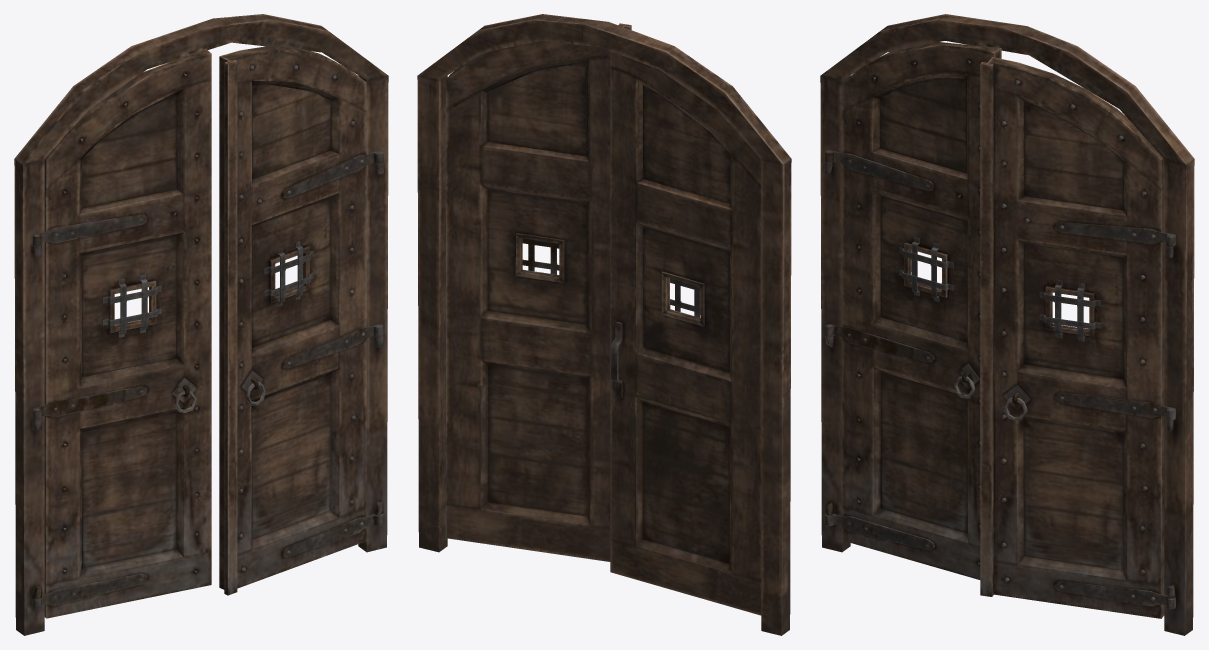
Rendered from large_castle_door.glb.
3 renders of one model, left to right at view 1: azimuth 30°, elevation 25°; view 2: azimuth 150°, elevation 25°; view 3: azimuth 330°, elevation 25°, orthographic.
Visible parts, largest first — view 1: large_castle_door_left, large_castle_door_right, large_castle_door_frame; view 2: large_castle_door_right, large_castle_door_left, large_castle_door_frame; view 3: large_castle_door_right, large_castle_door_left, large_castle_door_frame.
Boxes of the visible parts, x1,y1,x2,y2 form: large_castle_door_left: [32, 48, 211, 618]; large_castle_door_right: [219, 46, 383, 595]; large_castle_door_frame: [14, 14, 388, 635]; large_castle_door_right: [446, 23, 631, 561]; large_castle_door_left: [610, 51, 761, 615]; large_castle_door_frame: [417, 14, 791, 635]; large_castle_door_right: [980, 57, 1175, 618]; large_castle_door_left: [824, 42, 1001, 579]; large_castle_door_frame: [820, 14, 1194, 635].
Size of the model in its own units: 2.01 by 2.96 by 0.2963.
Materials: 1 (1 with a texture image).
